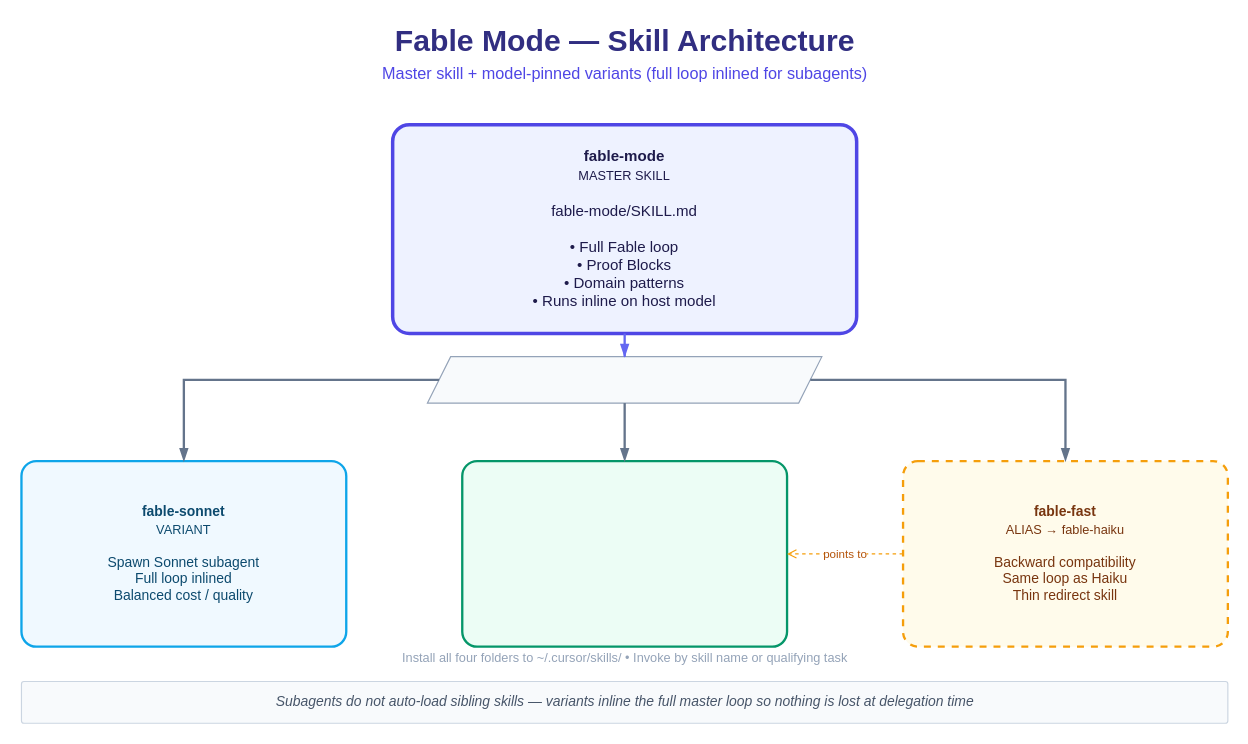
This 1248x744 diagram has some shape labels left out. Here are the shapes that lost their labels. From the top down, the centre of each, then its label:
(x=624, y=379): Host agent (Cursor / Claude Code)
(x=624, y=553): fable-haiku VARIANT Spawn Haiku subagent Full loop inlined Fast / cost-sensitive
